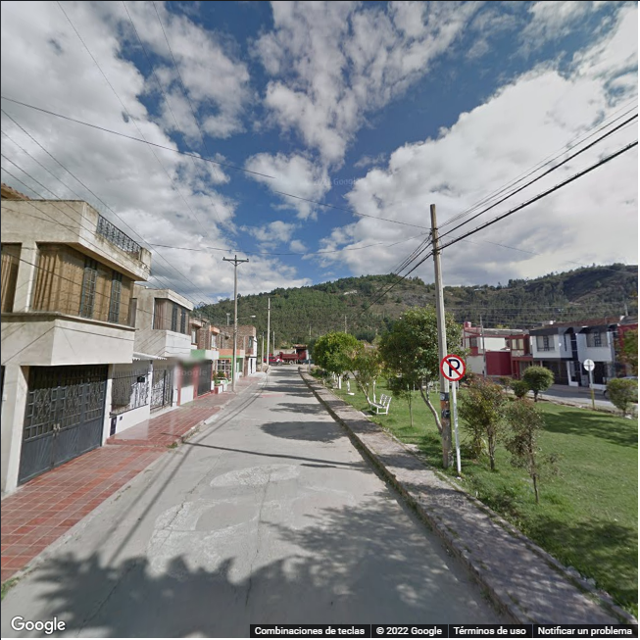D00: (155, 468, 213, 543), (88, 551, 140, 627), (250, 462, 271, 612)
